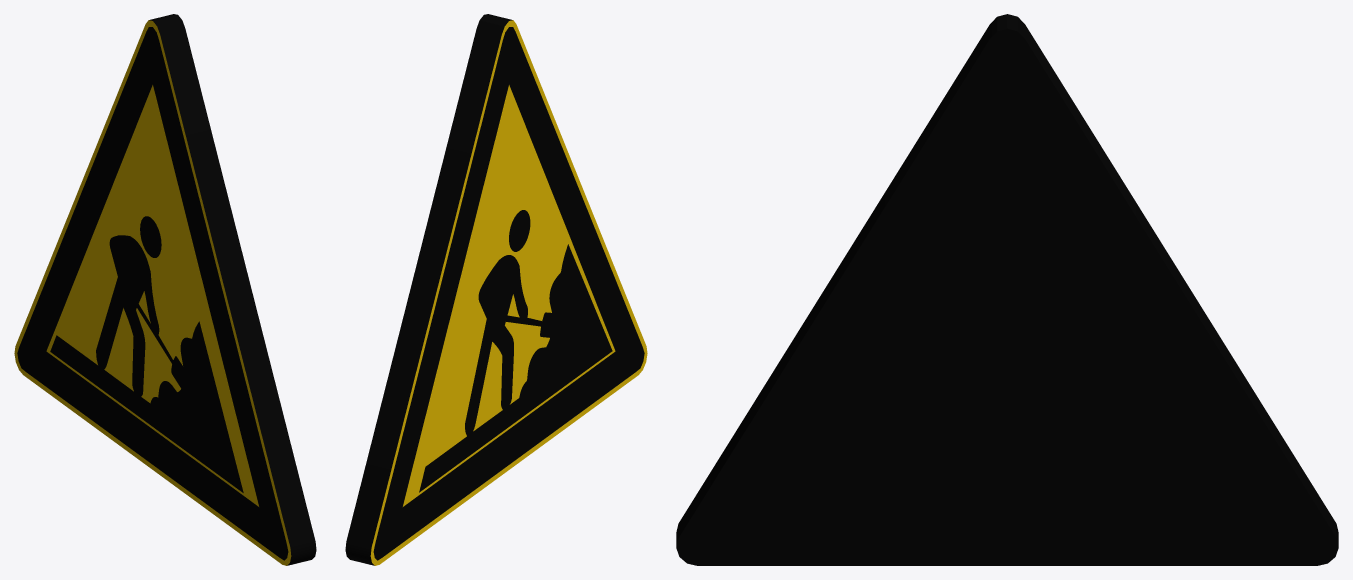
File: Construction_Mark.fbx
3 renders of one model, left to right at view 1: azimuth 30°, elevation 25°; view 2: azimuth 150°, elevation 25°; view 3: azimuth 270°, elevation 25°, orthographic. The views are drawn at different scales.
Parts seen in each view (by area): view 1: Construction_Mark; view 2: Construction_Mark; view 3: Construction_Mark.
Part boxes in pixels (x1,y1,x2,y2): Construction_Mark: (14, 14, 316, 565); Construction_Mark: (345, 14, 647, 565); Construction_Mark: (676, 14, 1338, 565).
Bounding box in the file's own units: 0.075 × 1.02 × 1.14.
